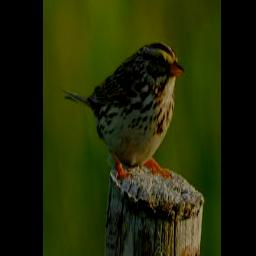Sparrow: (61, 39, 187, 183)
